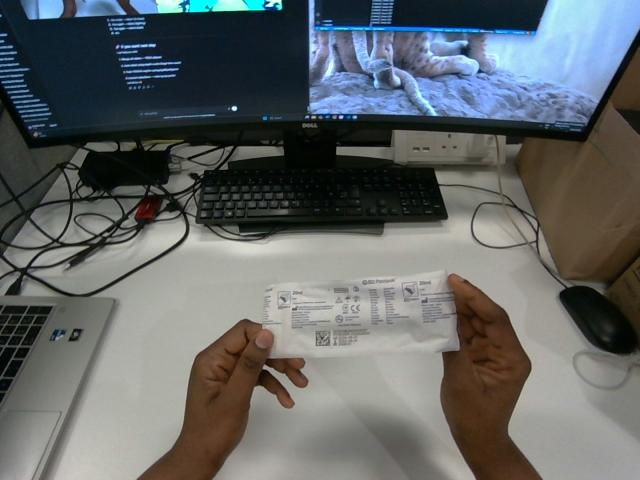syringe: (262, 271, 458, 357)
